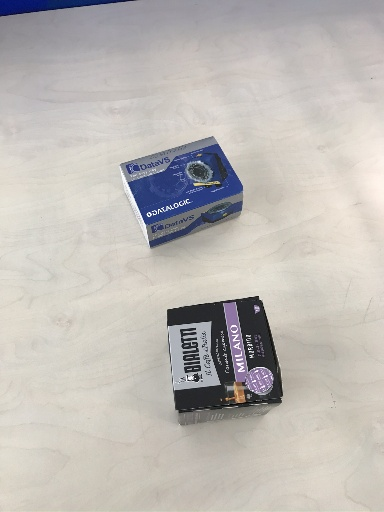Box: (120, 137, 245, 250)
Caffe: (166, 294, 285, 426)
